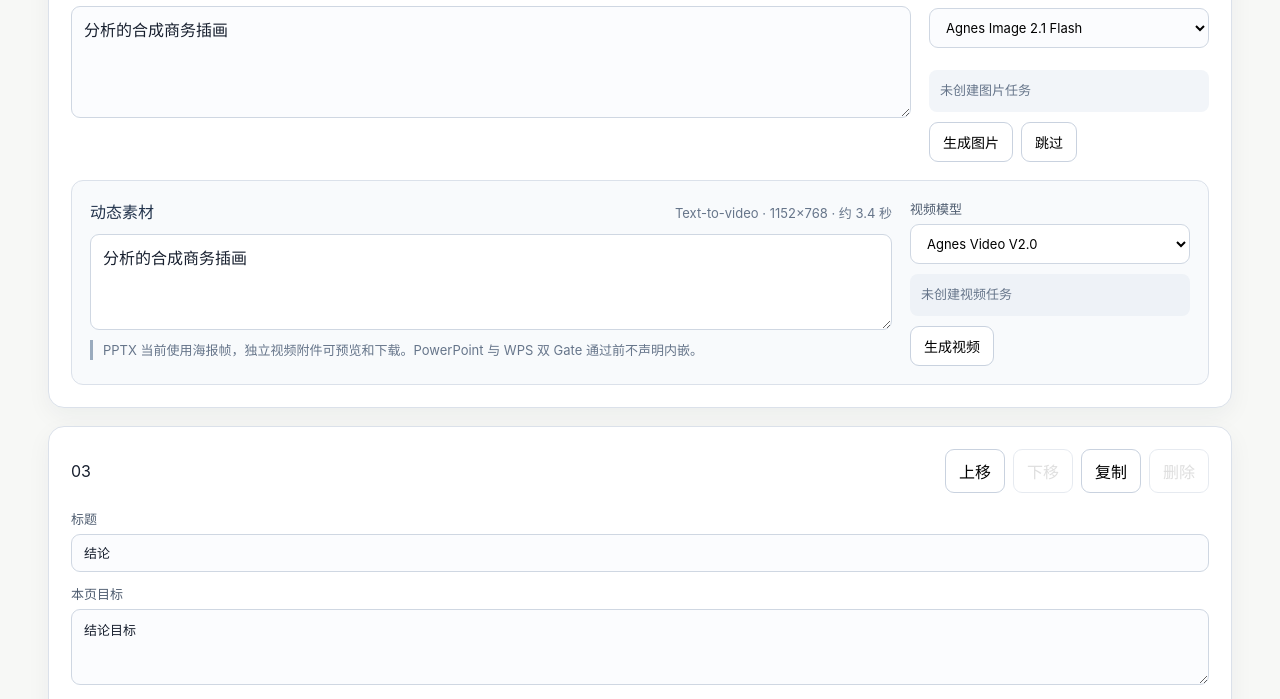
it: Deck editor › creates one text-to-video job only after per-slide confirmation
(page scrolled)
Click the button with test id "slide-video-generate-1".
click(952, 346)  # box left=910, top=326, right=994, bottom=366
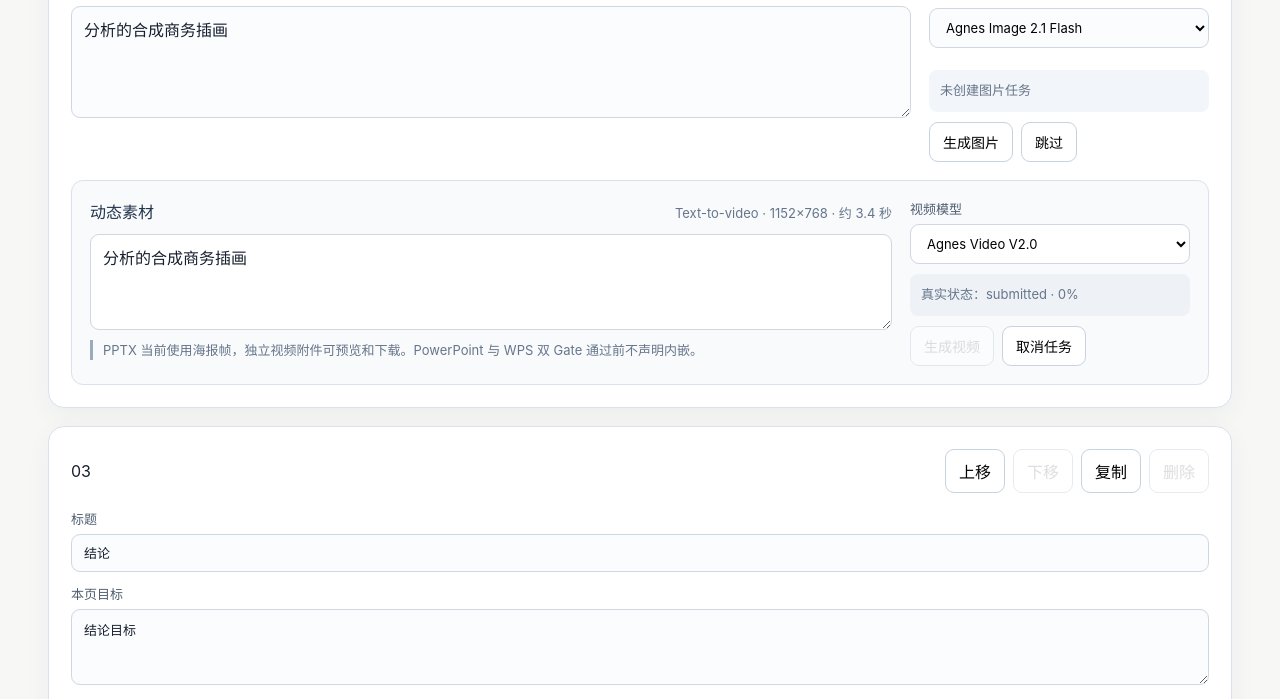
Now the text with test id "slide-video-status-1" shows "submitted", box left=921, top=286, right=1079, bottom=302
